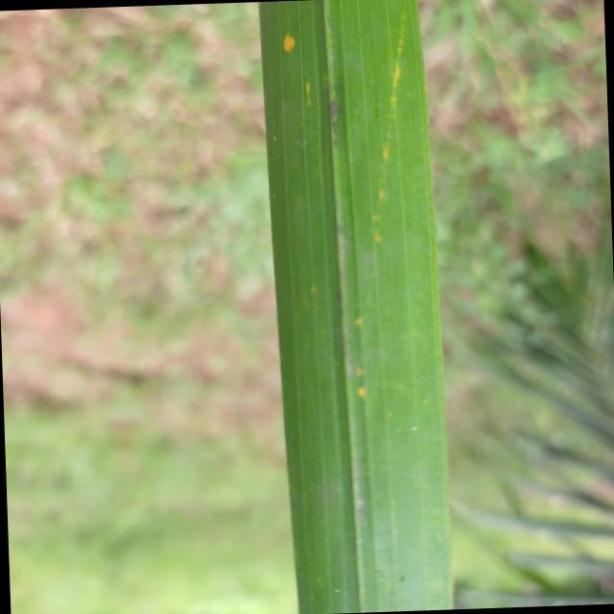Kalium: (256, 0, 452, 614)
